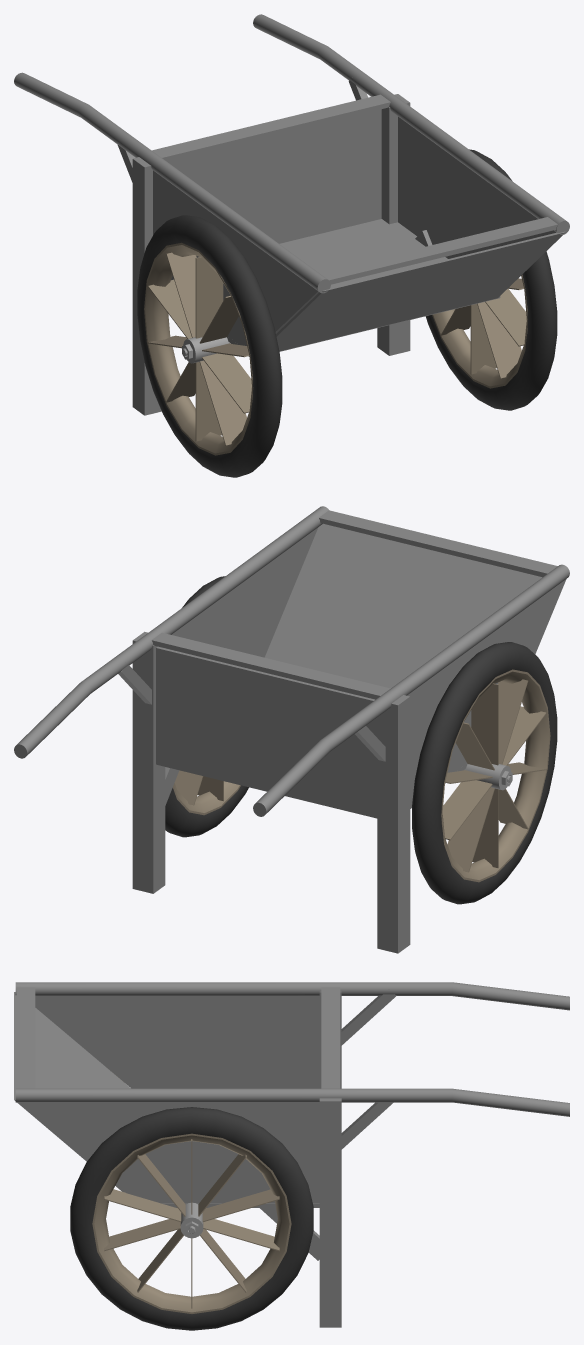
Rendered from cart1.fbx.
3 renders of one model, top to bottom at view 1: azimuth 30°, elevation 25°; view 2: azimuth 150°, elevation 25°; view 3: azimuth 270°, elevation 25°, orthographic. The views are drawn at different scales.
Visible parts, largest first — view 1: group7; view 2: group7; view 3: group7.
Part boxes in pixels (left/top/right/bottom): group7: left=14, top=14, right=569, bottom=477; group7: left=14, top=506, right=569, bottom=953; group7: left=14, top=982, right=569, bottom=1330.
Size of the model in its own units: 9.01 by 6.7 by 14.5.
